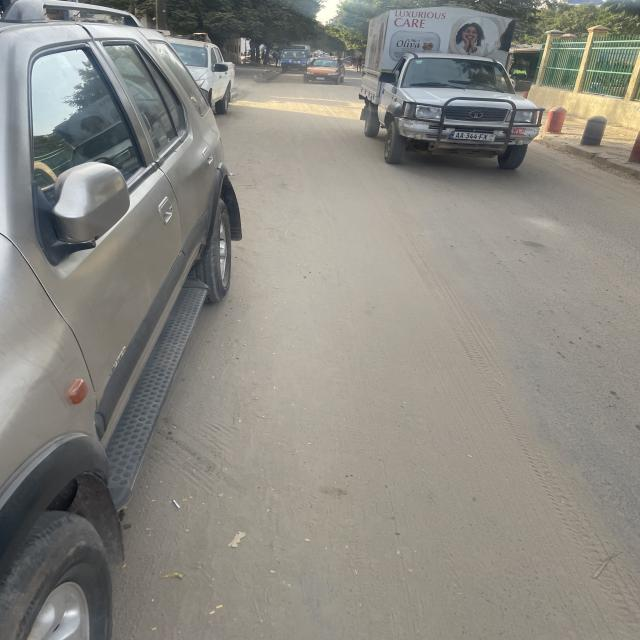fourgon: (281, 47, 309, 74)
particulier: (1, 1, 241, 640), (361, 9, 544, 170), (169, 35, 236, 115)
taxi: (304, 59, 346, 85)
